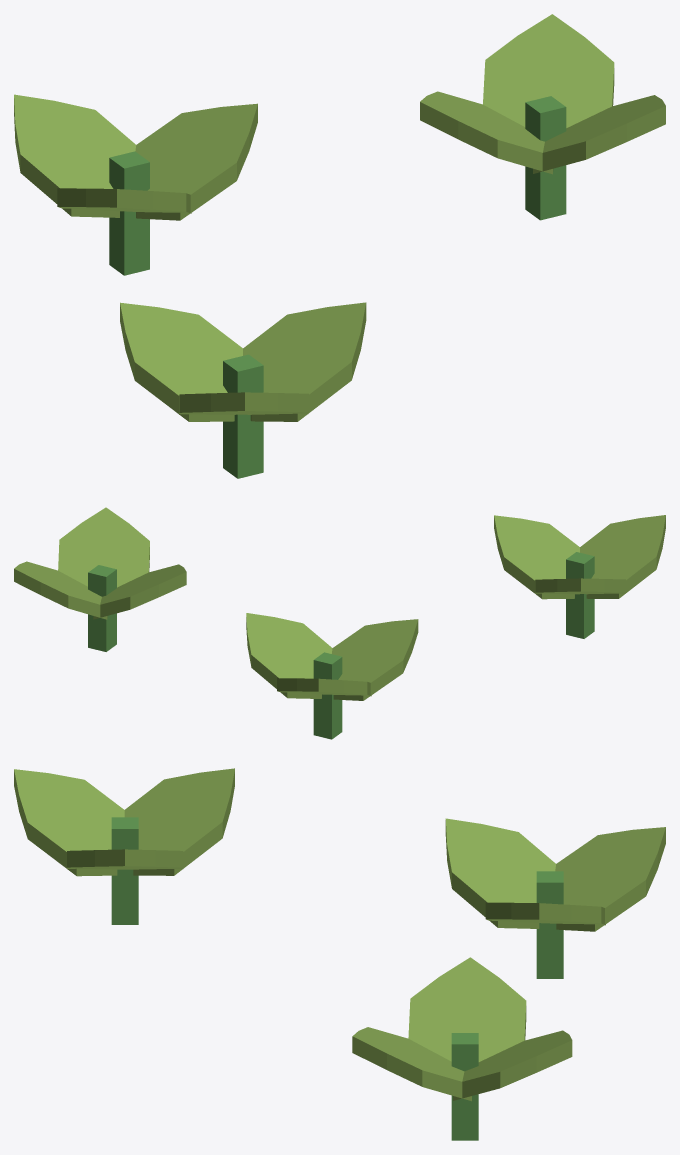
Rendered from crop_potato_sprout.glb.
3 renders of one model, top to bottom at view 1: azimuth 30°, elevation 25°; view 2: azimuth 150°, elevation 25°; view 3: azimuth 270°, elevation 25°, orthographic. The views are drawn at different scales.
Parts seen in each view (by area): view 1: body__leaf2.007, body__green2.005; view 2: body__leaf2.007, body__green2.005; view 3: body__leaf2.007, body__green2.005.
Boxes of the visible parts, x1,y1,x2,y2 form: body__leaf2.007: [14, 14, 665, 421]; body__green2.005: [109, 96, 566, 478]; body__leaf2.007: [14, 507, 665, 700]; body__green2.005: [88, 552, 594, 739]; body__leaf2.007: [14, 768, 665, 1101]; body__green2.005: [111, 817, 563, 1140].
Size of the model in its own units: 0.4882 by 0.0965 by 0.4603.
